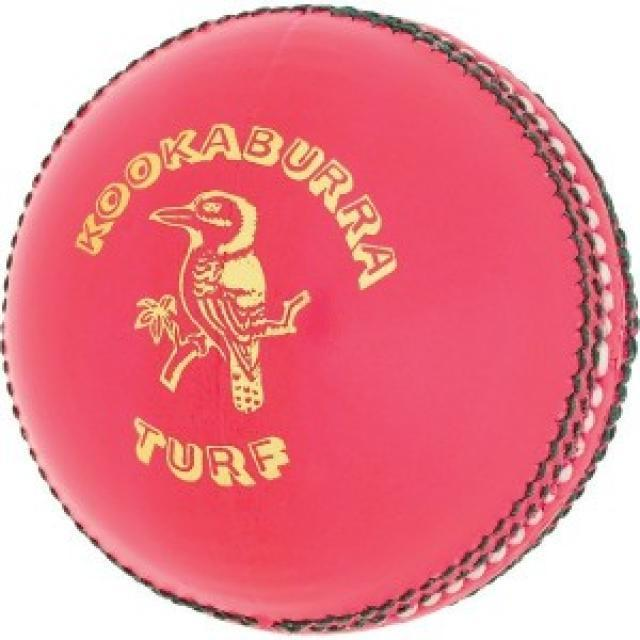cricket ball: (0, 2, 638, 635)
